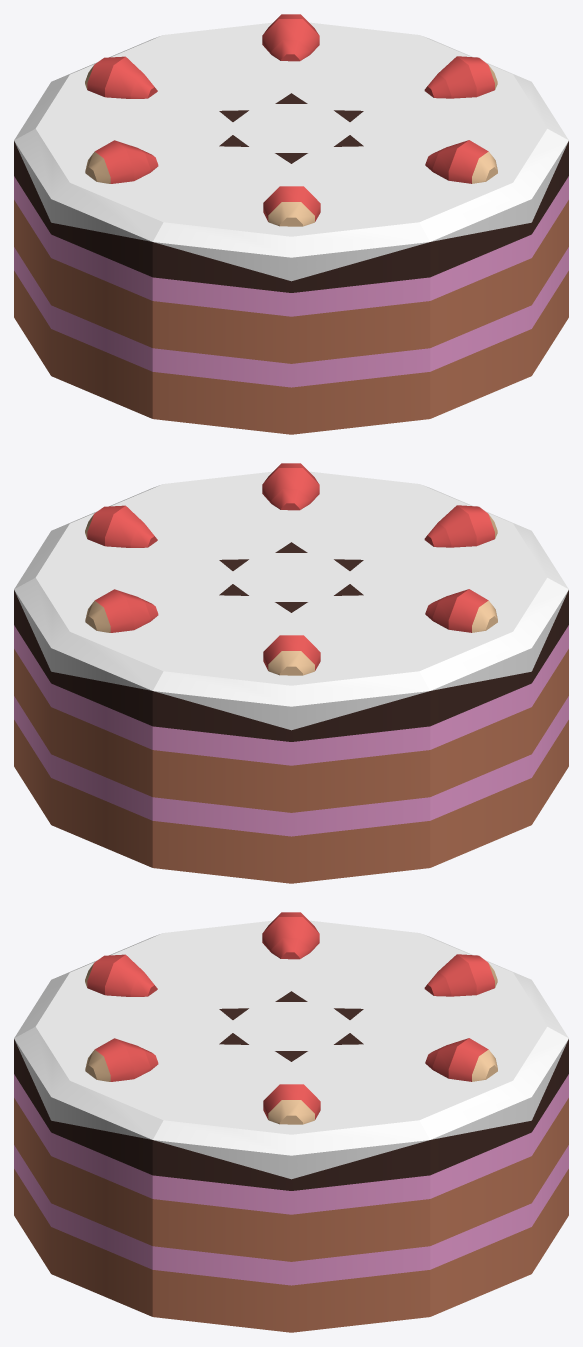
File: cake.dae
3 renders of one model, top to bottom at view 1: azimuth 30°, elevation 25°; view 2: azimuth 150°, elevation 25°; view 3: azimuth 270°, elevation 25°, orthographic.
Visible parts, largest first — view 1: slice (×6); view 2: slice (×6); view 3: slice (×6).
Part boxes in pixels (x1,y1,x2,y2): slice (×6): (14,14,568,434); slice (×6): (14,463,568,883); slice (×6): (14,912,568,1332).
Size of the model in its own units: 0.6392 by 0.2731 by 0.6392.
